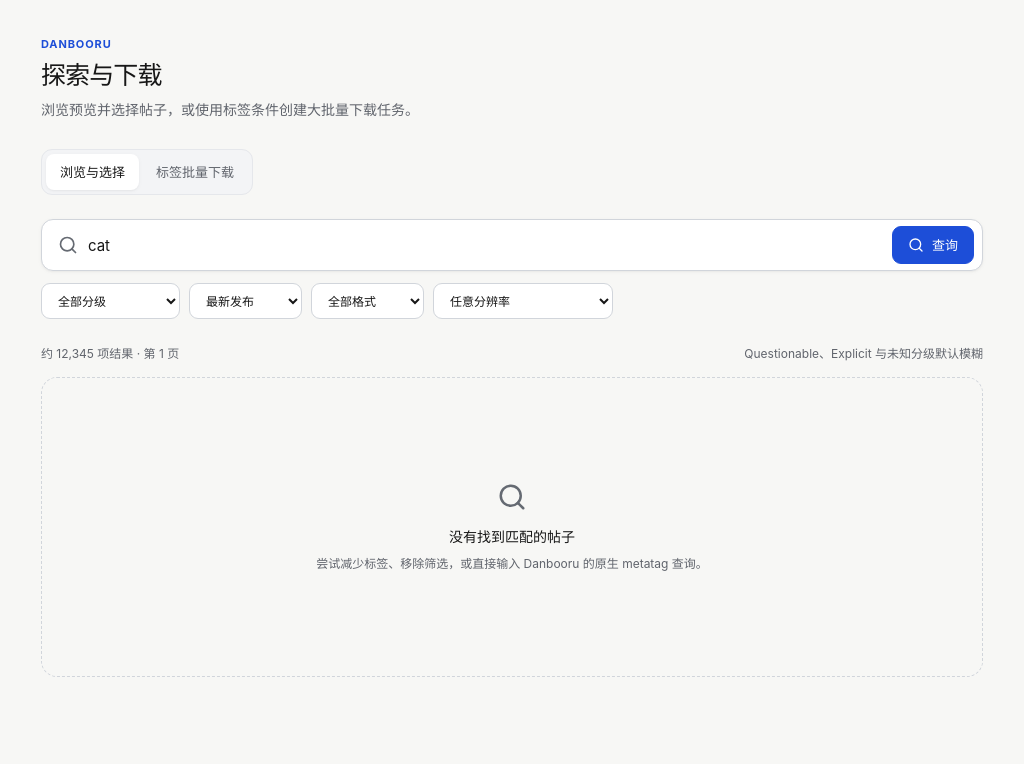
it: ExploreView result count › separates browsing and legacy-style batch download into two subviews
Expected: the text "约 12,345 项结果 · 第 1 页" is shown, [41,345,179,363]
Expected: the field named "Danbooru 查询" is shown, [88,221,882,269]
What coordinates should you click on to do the following:
click the tab "标签批量下载"
I would click on:
 (195, 172)
Its box is [142,154,248,190].
(page scrolled)
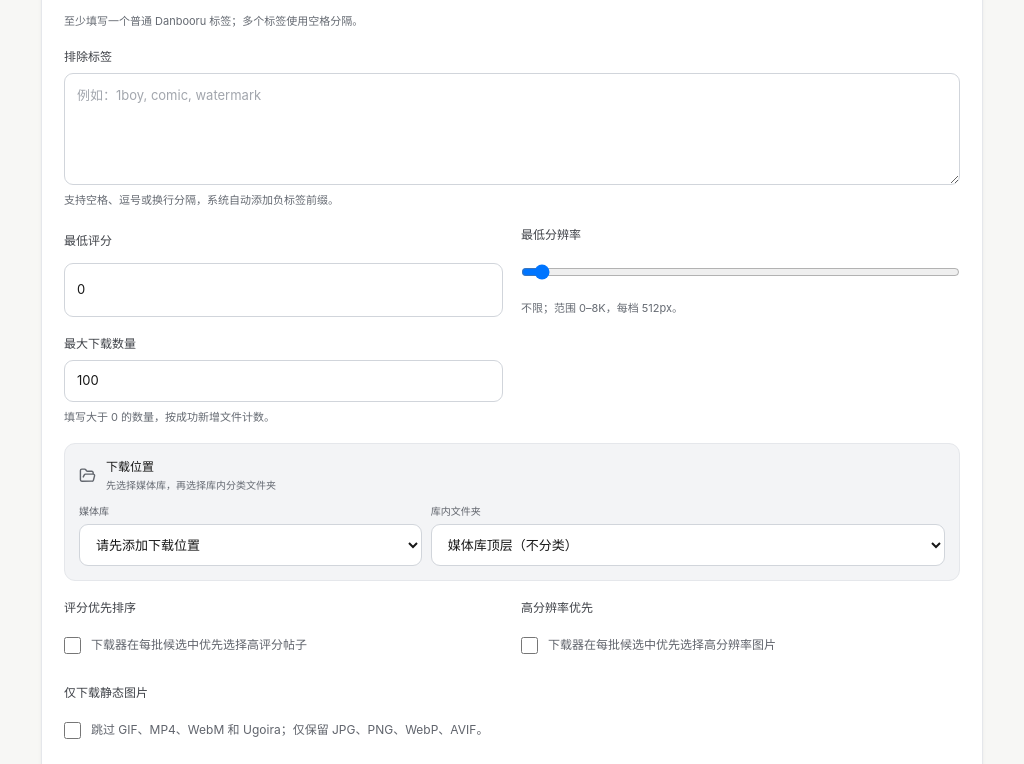
Expected: the field labelled "Danbooru 查询" is not shown
Expected: the number field labelled "最大下载数量" is shown, [64,360,503,402]
